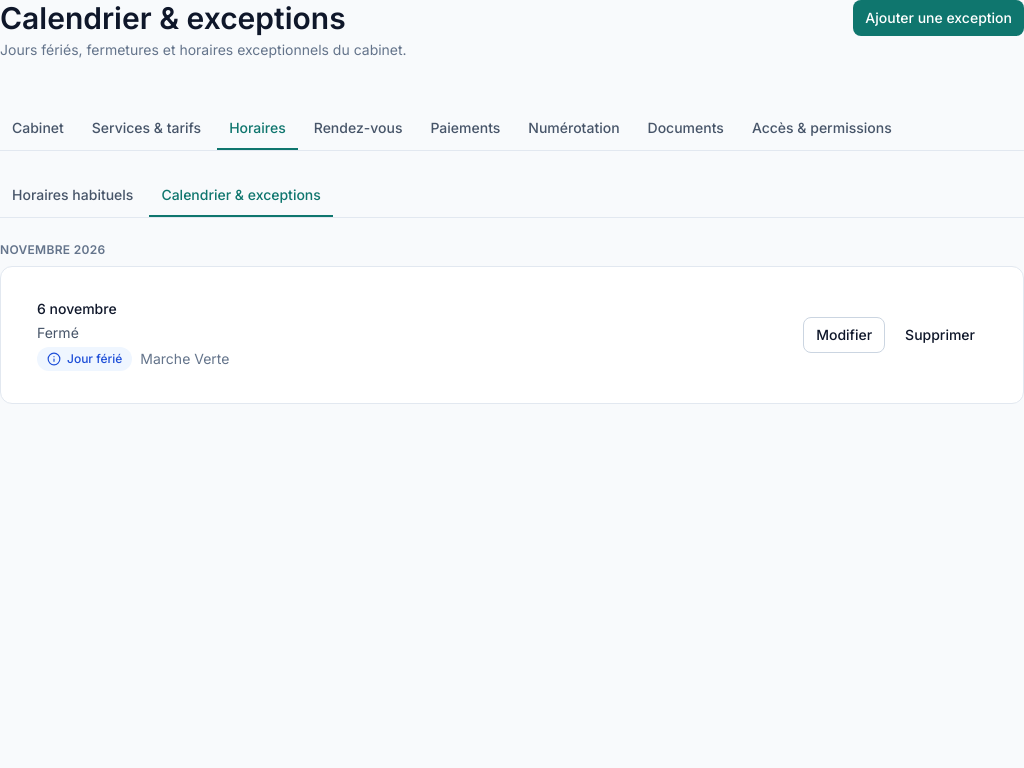
Test: CalendarExceptionsPage › rejects a duplicate active date
Click the button "Ajouter une exception".
click(939, 18)  # box [853,0,1023,36]
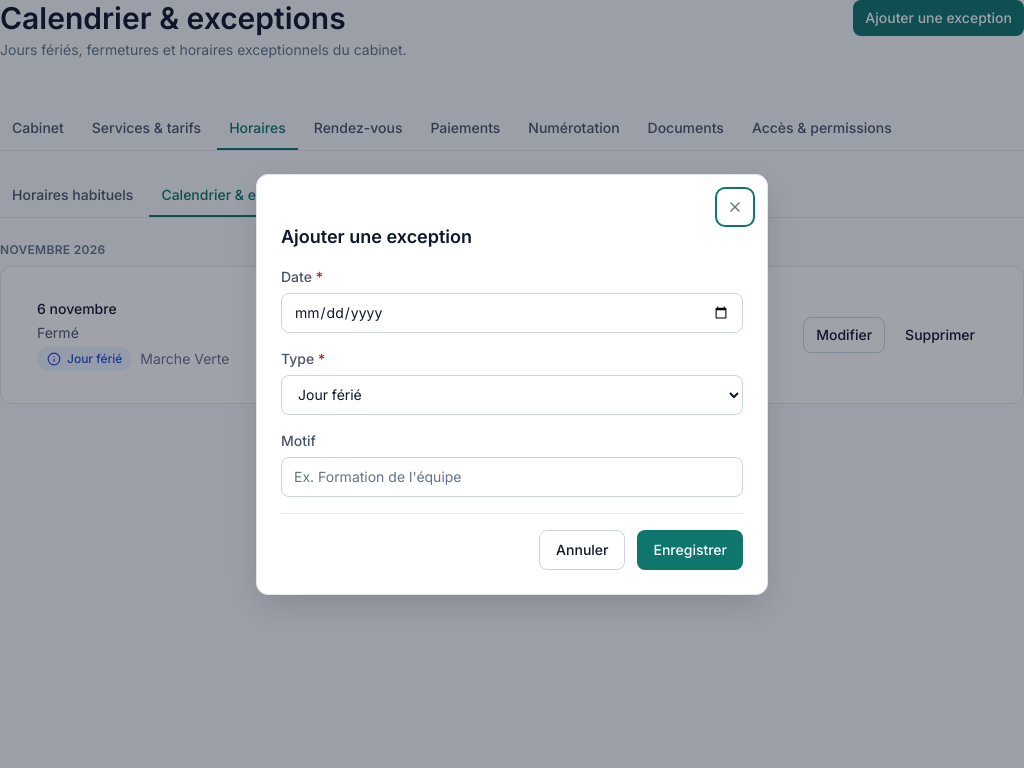
Type "2026-11-06" into the date field labelled "Date *".
click(512, 312); type("2026-11-06")  # box [281,292,743,332]
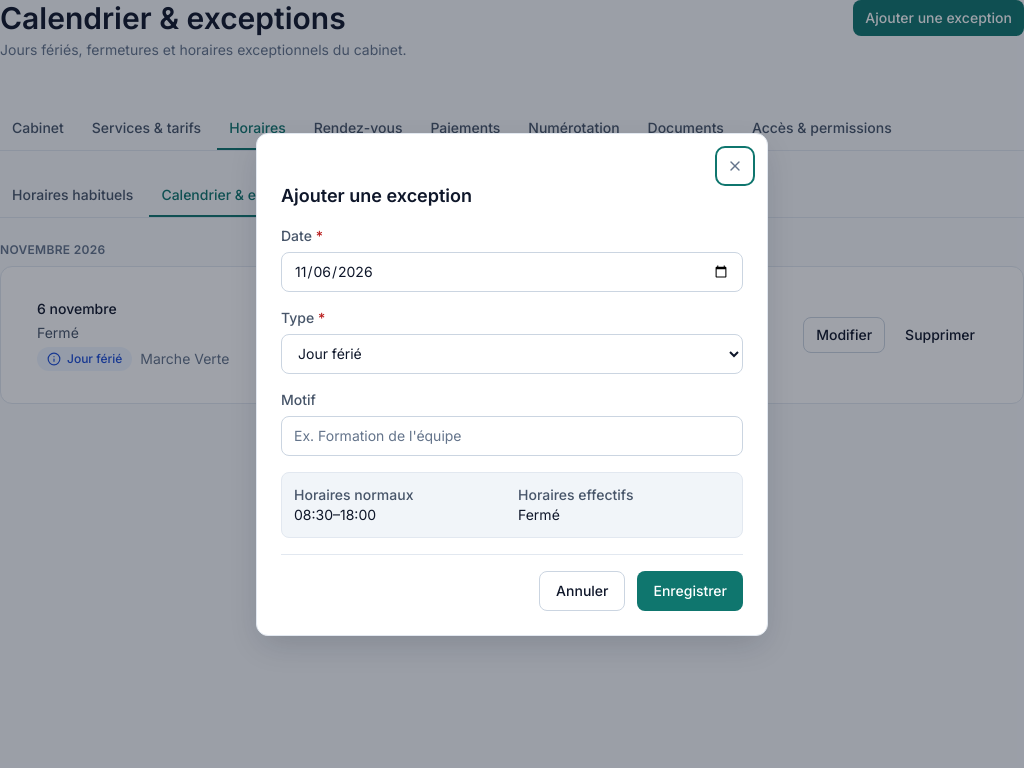
Click the button "Enregistrer".
click(690, 590)  # box [638,570,743,610]
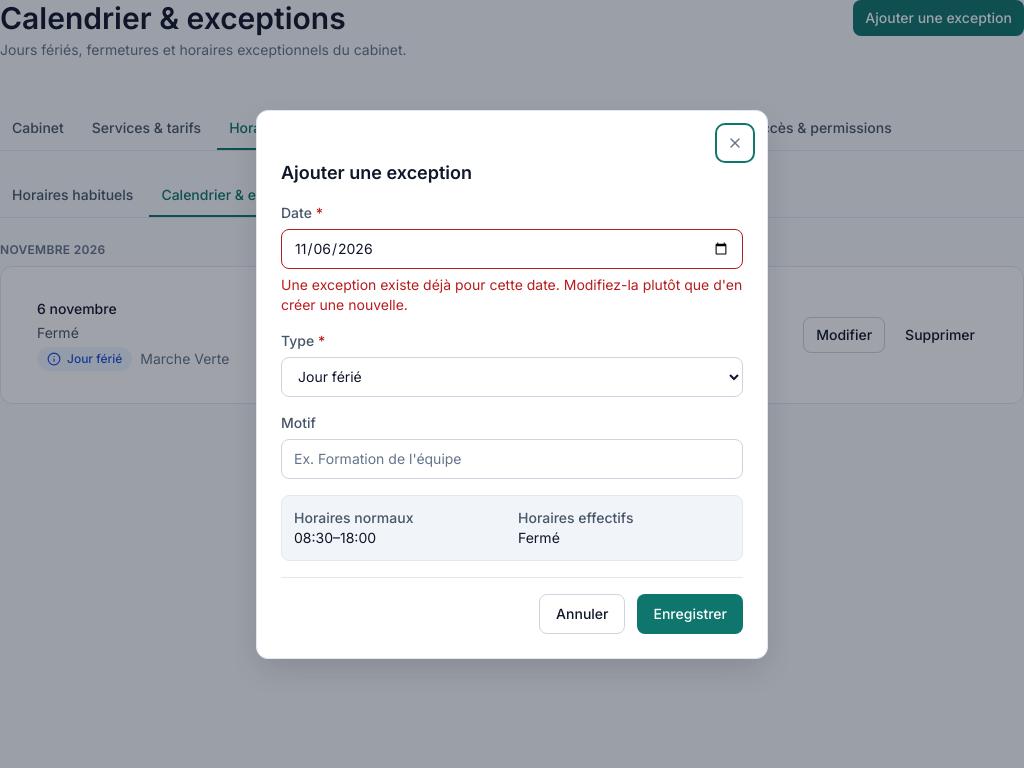
Check: the text "Une exception existe déjà pour cette date. Modifiez-la plutôt que d'en créer une nouvelle." is shown, box [281,276,742,312]
